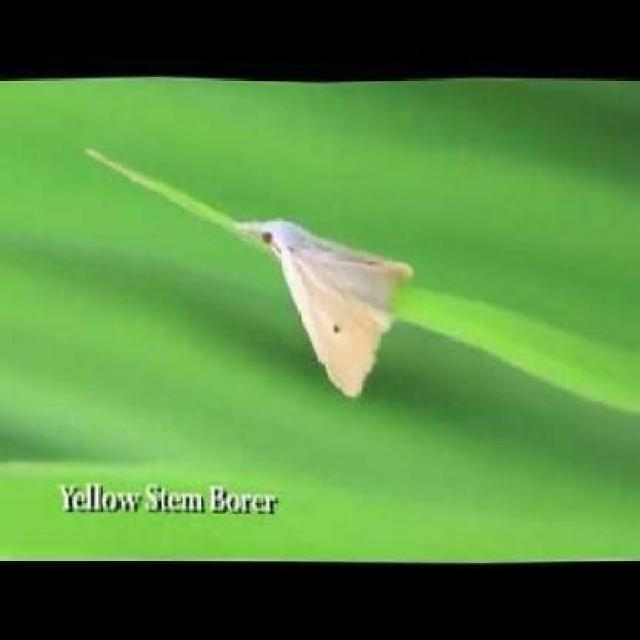stem-borer: (229, 217, 417, 398)
